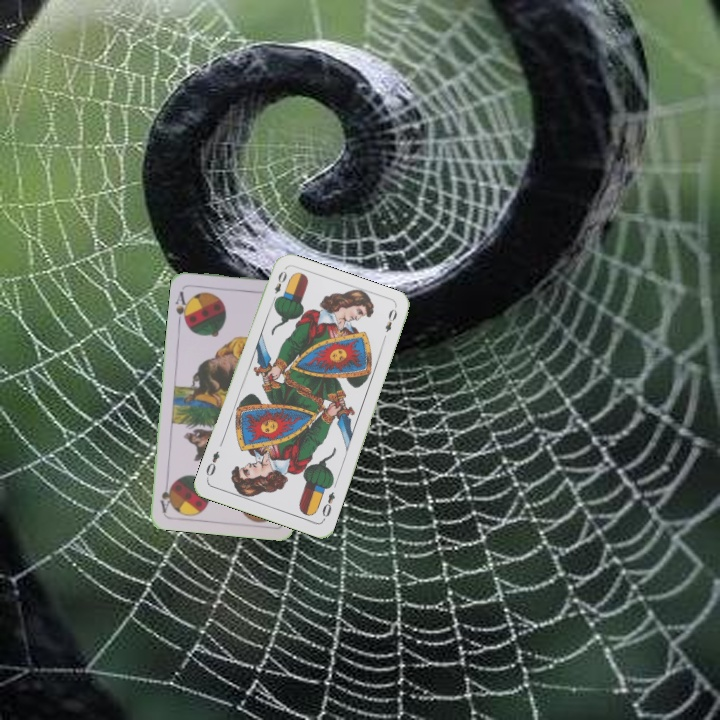EO: (268, 267, 289, 306), (318, 488, 338, 523)
SA: (171, 287, 192, 326)
